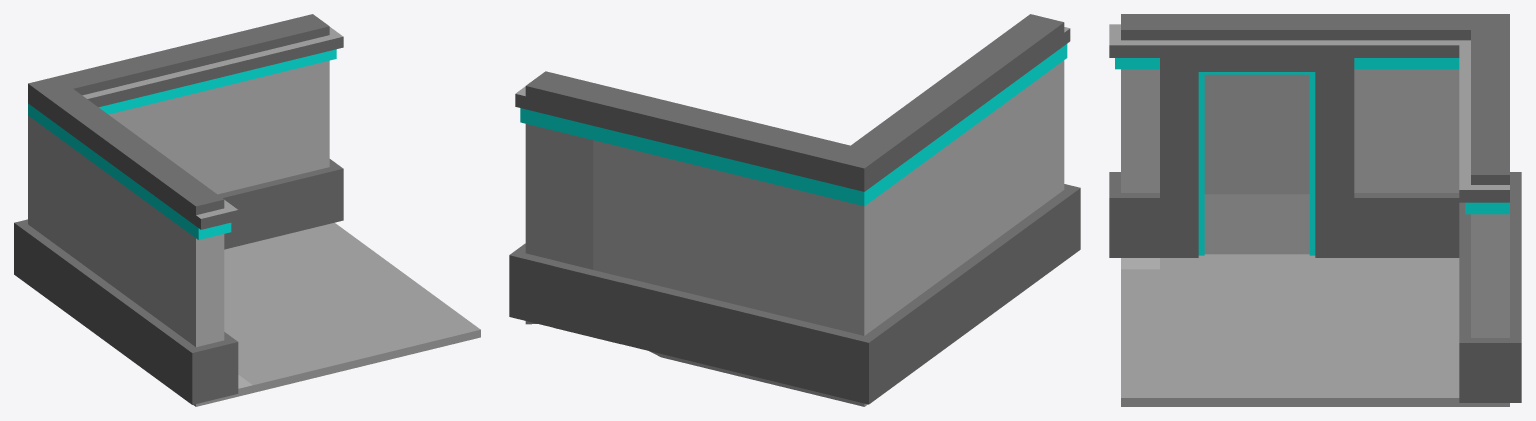
The model's file is room.fbx.
3 views of the same model, side by side, from view 1: azimuth 30°, elevation 25°; view 2: azimuth 150°, elevation 25°; view 3: azimuth 270°, elevation 25° (orthographic). The views are drawn at different scales.
Parts seen in each view (by area): view 1: room; view 2: room; view 3: room.
Boxes of the visible parts, bbox=[...] form: room: bbox=[14, 14, 480, 406]; room: bbox=[509, 14, 1080, 406]; room: bbox=[1109, 14, 1521, 406].
Size of the model in its own units: 13.79 by 8.73 by 14.06.
